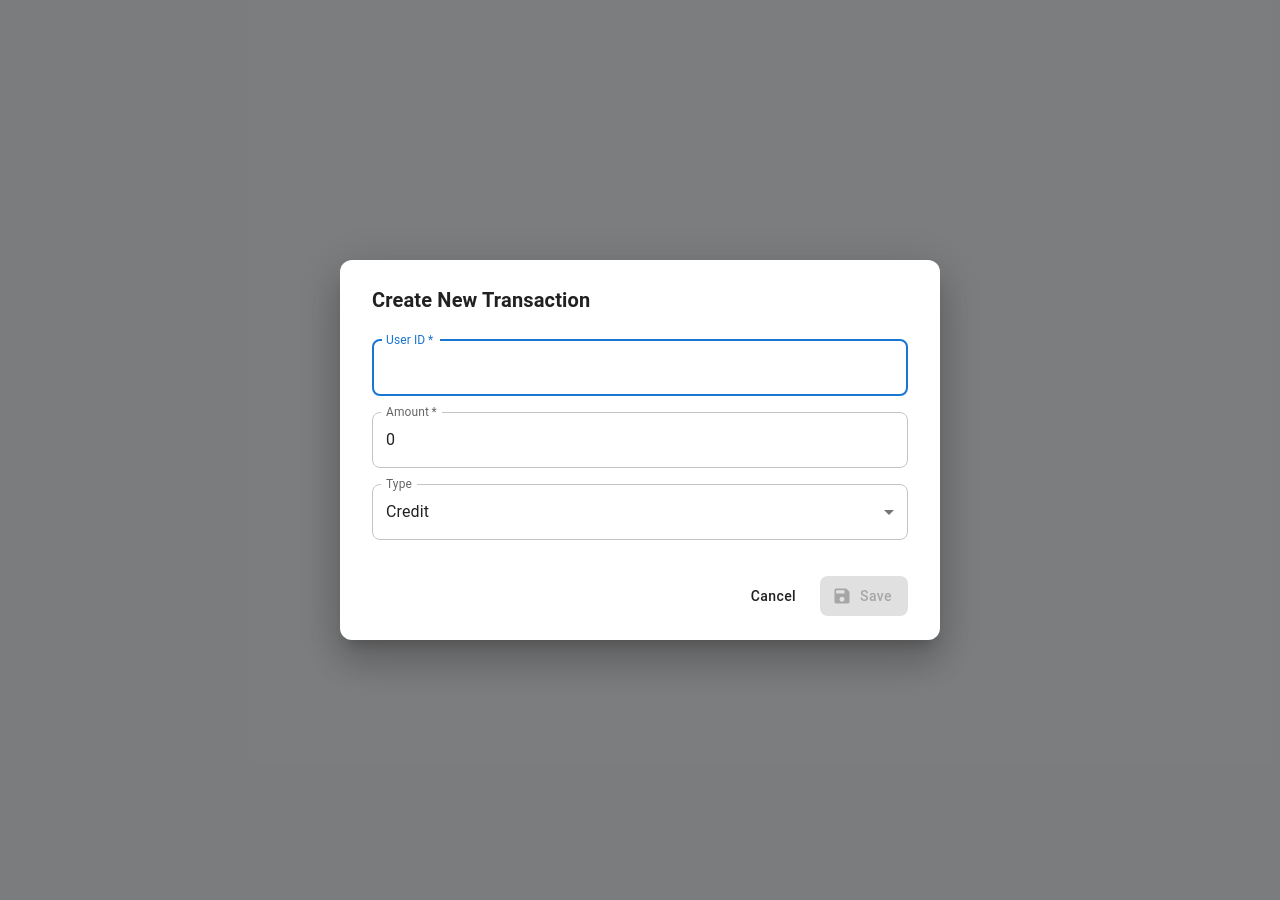
Test: TransactionModal Component › should reset form after successful submission
In the field labelled "User ID *": (640,368) x1=372 y1=340 x2=908 y2=396, type "validUser123"
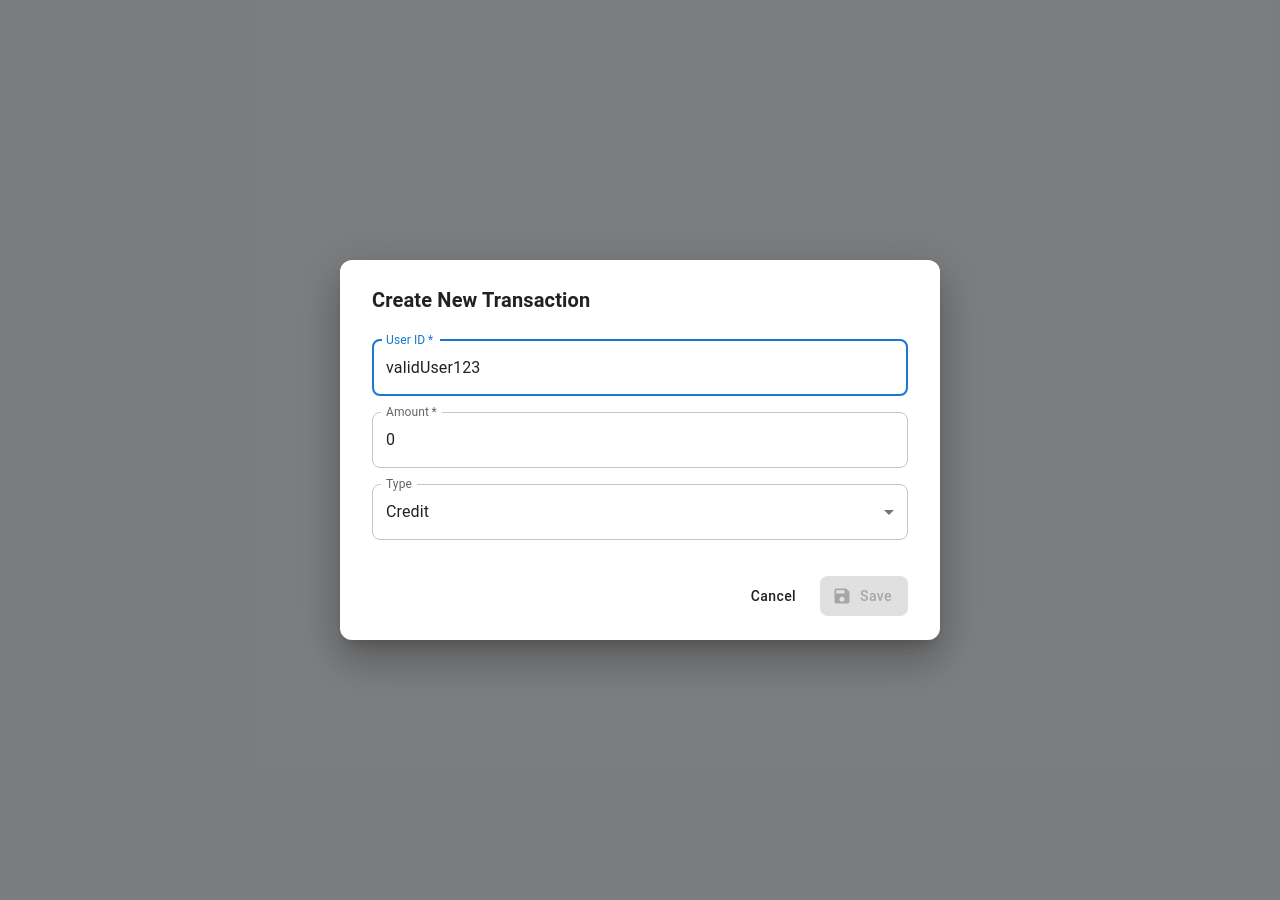
Replace the text in the number field labelled "Amount *" with "100": (640,440) x1=372 y1=412 x2=908 y2=468
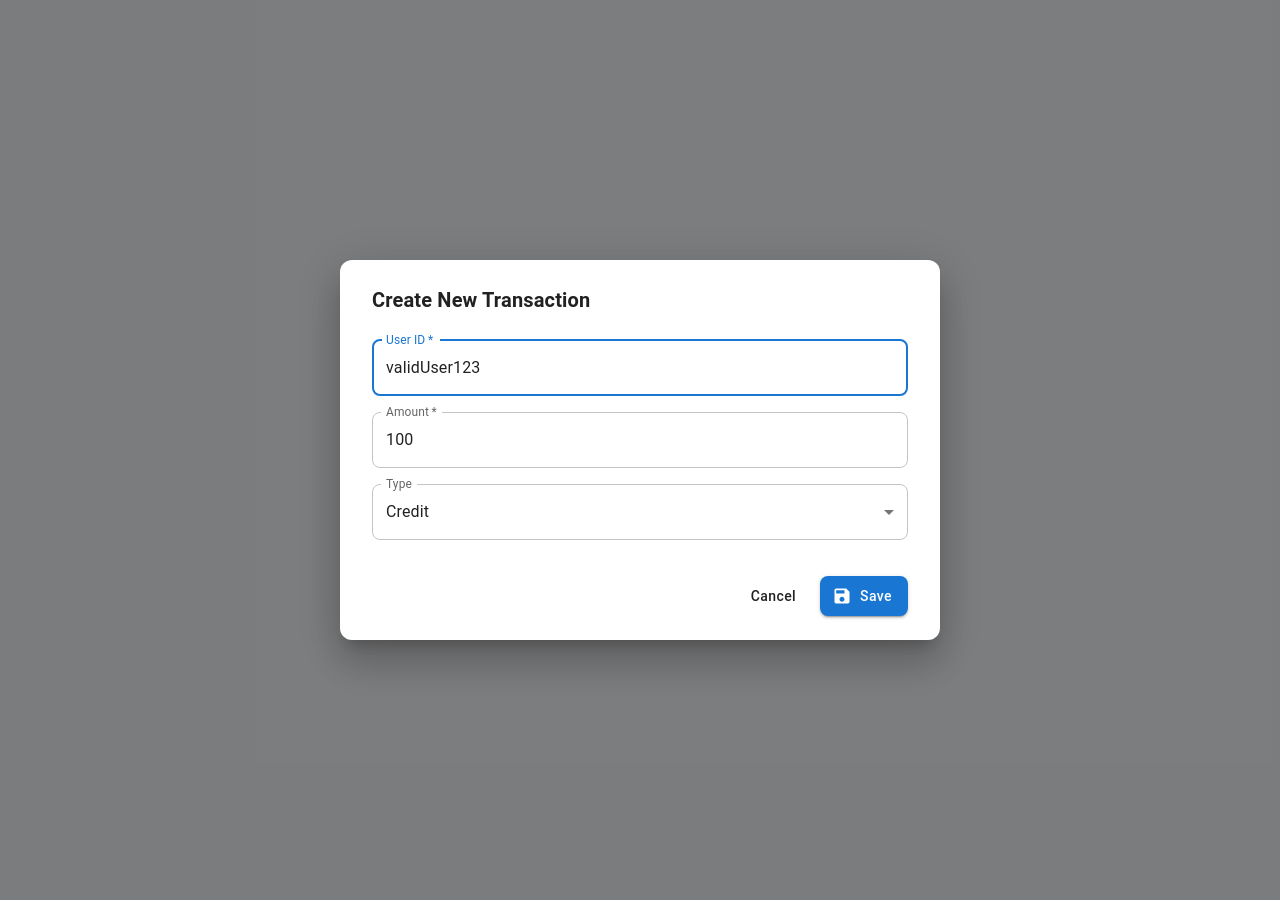
Click the button "Save": (864,596) x1=820 y1=576 x2=908 y2=616
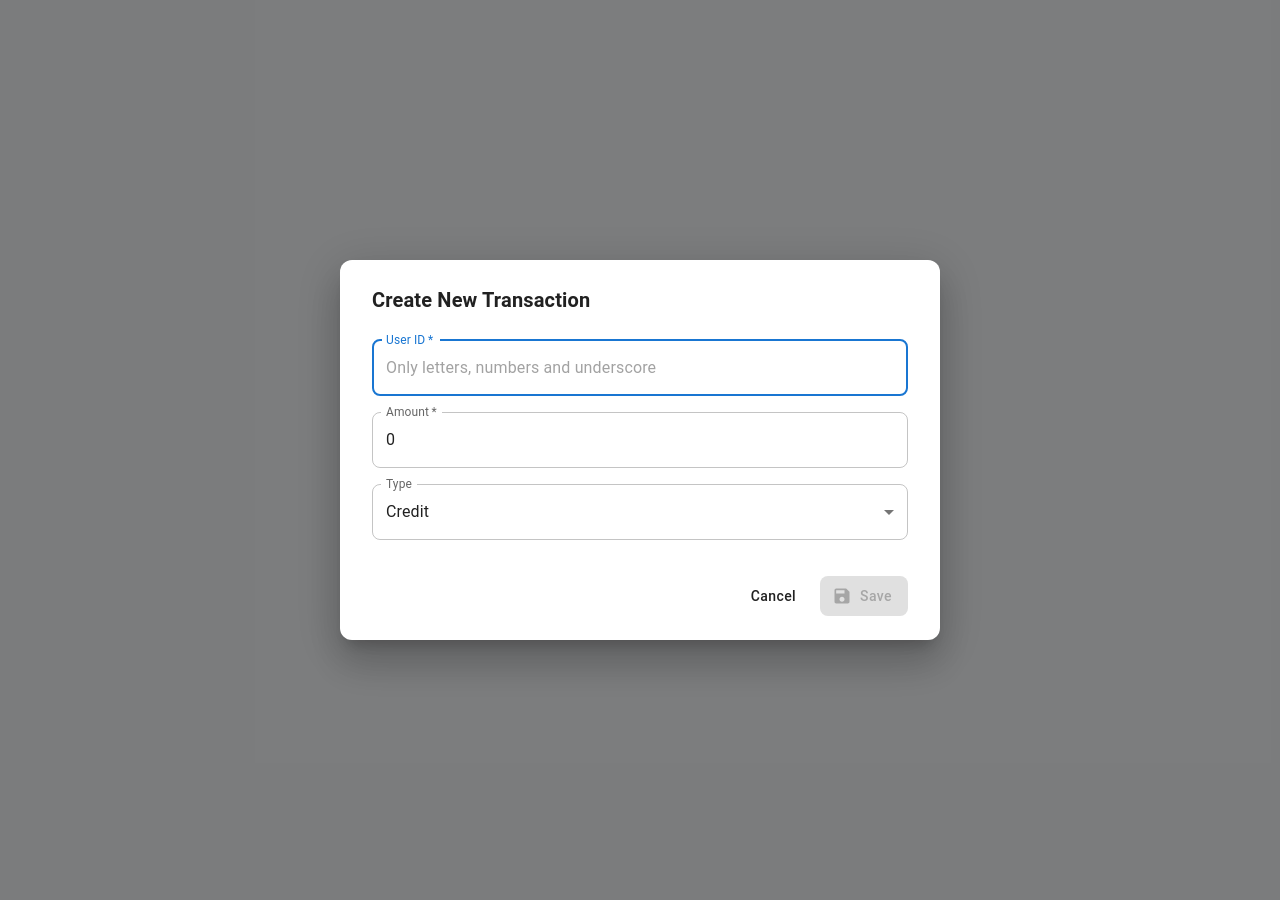
Expected: the field labelled "User ID *" is empty, x1=372 y1=340 x2=908 y2=396
Expected: the number field labelled "Amount *" holds "0", x1=372 y1=412 x2=908 y2=468
